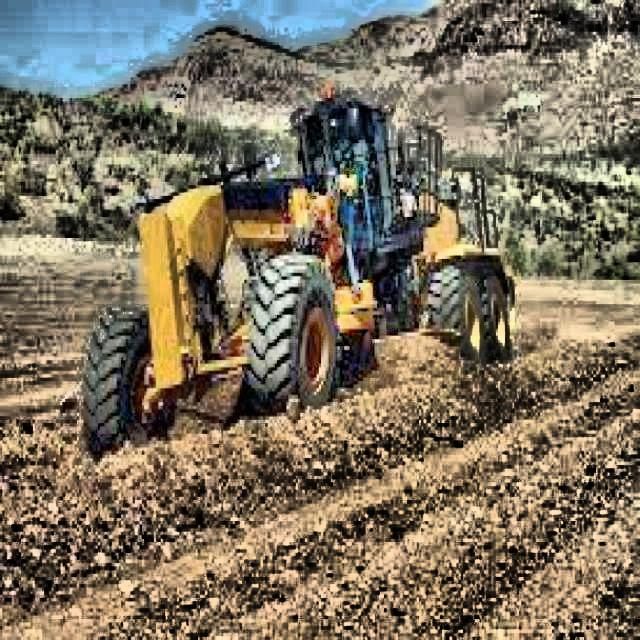bull_dozer/loader/grader: (78, 77, 520, 466)
person: (332, 137, 370, 195)
